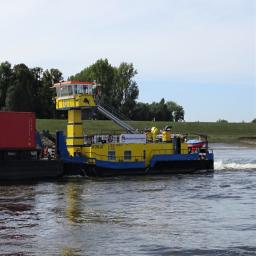tugboat: (35, 79, 218, 184)
